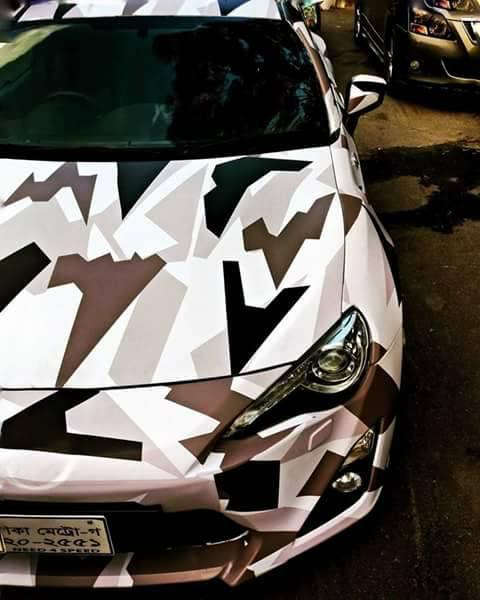registration_plate: (1, 514, 116, 558)
